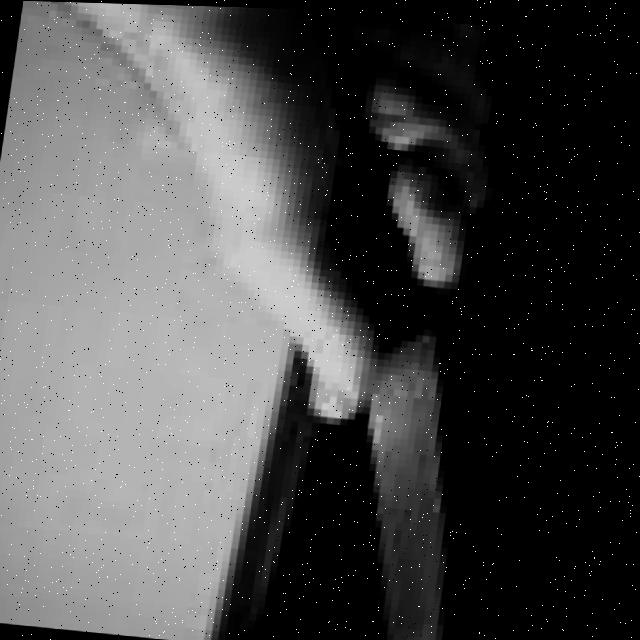knife: (226, 6, 529, 640)
